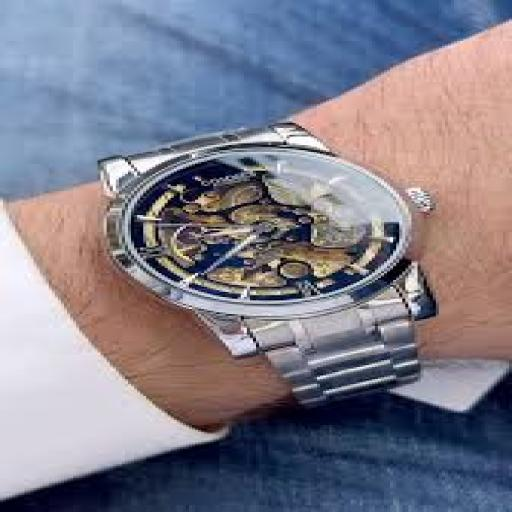KolSaati: (60, 118, 462, 415)
